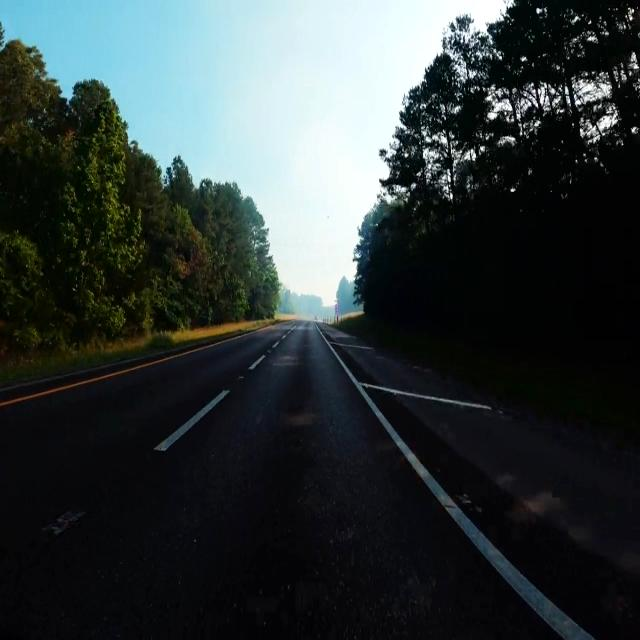lane: (316, 326, 592, 640), (0, 333, 248, 408), (155, 391, 229, 451), (249, 353, 266, 370)
road: (0, 324, 555, 637), (382, 396, 640, 636)
